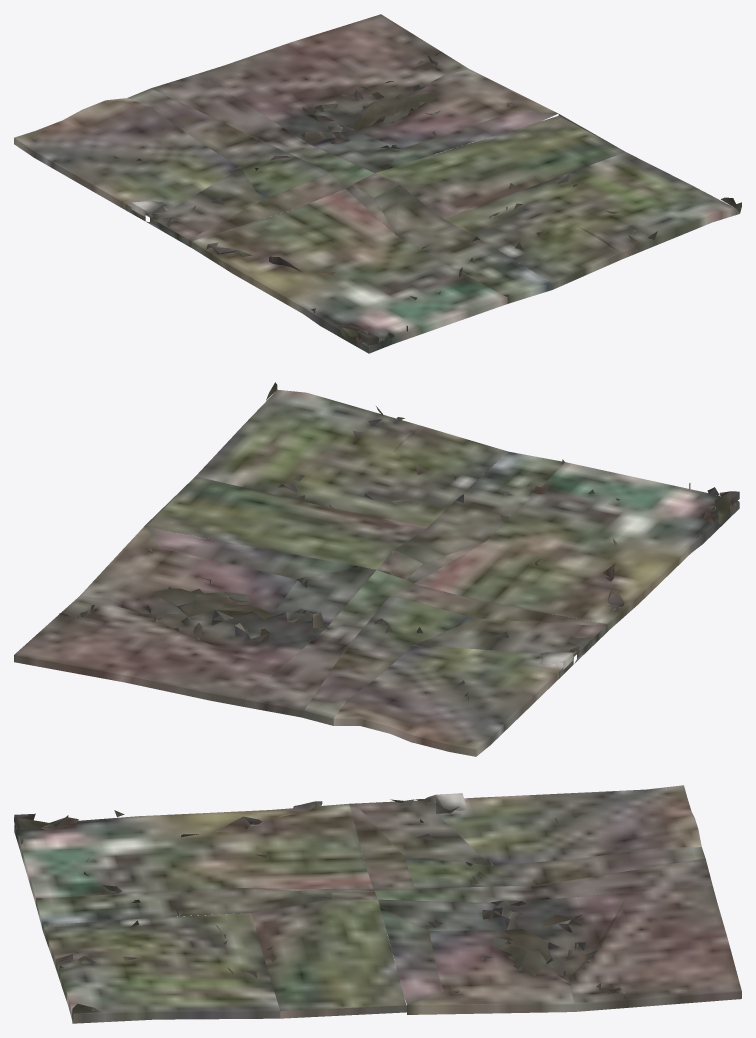
The picture shows the model from 3 angles, top to bottom: view 1: azimuth 30°, elevation 25°; view 2: azimuth 150°, elevation 25°; view 3: azimuth 270°, elevation 25°; orthographic projection. The views are drawn at different scales.
Visible parts, largest first — view 1: Mesh_0; view 2: Mesh_0; view 3: Mesh_0.
Boxes of the visible parts, x1,y1,x2,y2 form: Mesh_0: (14, 14, 741, 353); Mesh_0: (14, 382, 739, 756); Mesh_0: (14, 785, 741, 1023).
Bounding box in the file's own units: 1079 × 88.98 × 1318.
Materials: 1 (1 with a texture image).
